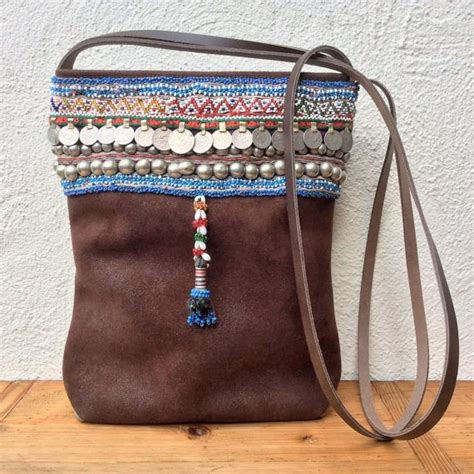gamuza: (63, 192, 344, 424)
